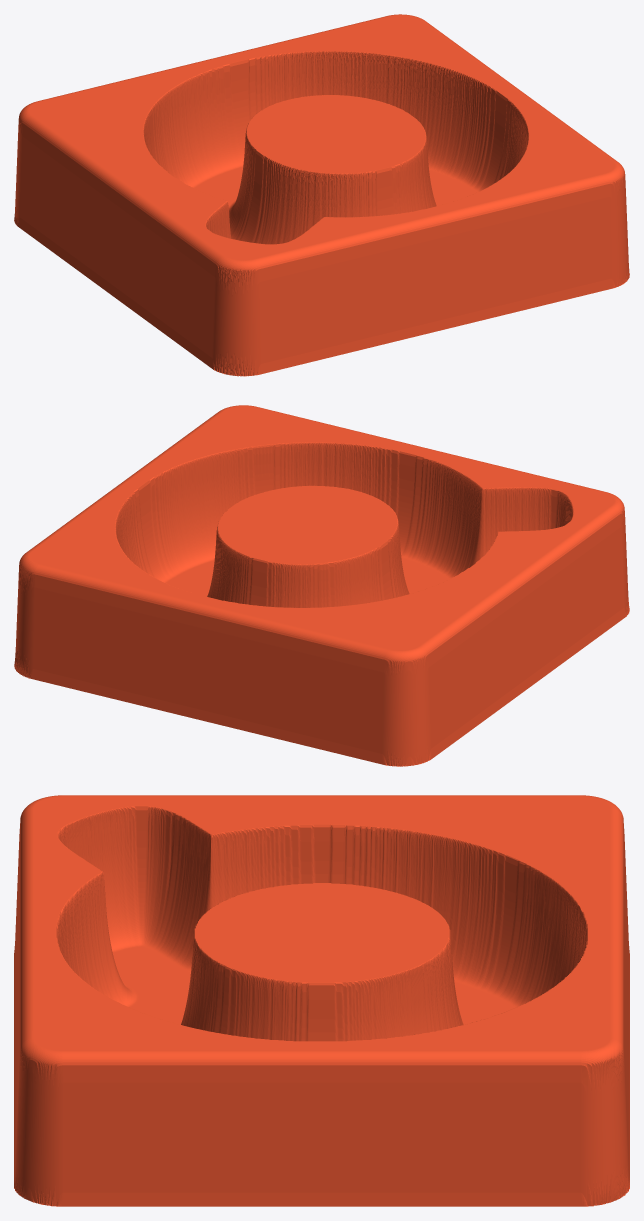
The model's file is mold.glb.
The picture shows the model from 3 angles, top to bottom: view 1: azimuth 30°, elevation 25°; view 2: azimuth 150°, elevation 25°; view 3: azimuth 270°, elevation 25°; orthographic projection. The views are drawn at different scales.
Visible parts, largest first — view 1: geometry_0; view 2: geometry_0; view 3: geometry_0.
Boxes of the visible parts, <box> form: geometry_0: <box>14,14,629,376</box>; geometry_0: <box>14,405,629,766</box>; geometry_0: <box>14,795,629,1206</box>.
Bounding box in the file's own units: 0.1178 × 0.0299 × 0.1132.
